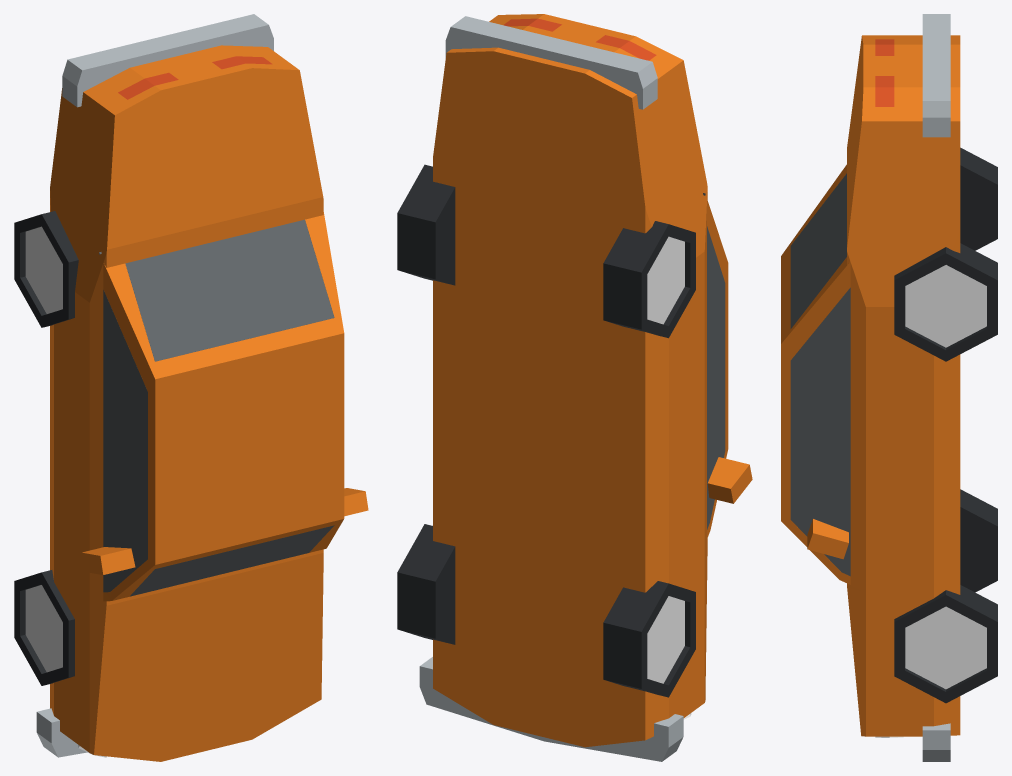
File: tinker.obj
The picture shows the model from 3 angles, left to right: view 1: azimuth 30°, elevation 25°; view 2: azimuth 150°, elevation 25°; view 3: azimuth 270°, elevation 25°; orthographic projection. The views are drawn at different scales.
Parts seen in each view (by area): view 1: group_0_16089887, group_0_6383466, group_0_12568524, group_0_2829873, group_0_16448250, group_0_14897954; view 2: group_0_16089887, group_0_2829873, group_0_12568524, group_0_16448250, group_0_6383466, group_0_14897954; view 3: group_0_16089887, group_0_6383466, group_0_2829873, group_0_16448250, group_0_12568524, group_0_14897954.
Part boxes in pixels (x1,y1,x2,y2): group_0_16089887: (50,45,368,761); group_0_6383466: (99,219,334,596); group_0_12568524: (36,14,273,757); group_0_2829873: (14,211,78,685); group_0_16448250: (25,226,106,757); group_0_14897954: (118,56,272,99); group_0_16089887: (433,14,752,747); group_0_2829873: (397,164,695,697); group_0_12568524: (419,16,683,761); group_0_16448250: (647,236,691,719); group_0_6383466: (703,193,725,529); group_0_14897954: (503,18,656,60); group_0_16089887: (781,35,960,736); group_0_6383466: (790,173,850,576); group_0_2829873: (894,147,997,703); group_0_16448250: (875,265,986,737); group_0_12568524: (922,14,950,761); group_0_14897954: (875,39,894,106).
Size of the model in its own units: 31 by 77 by 23.
